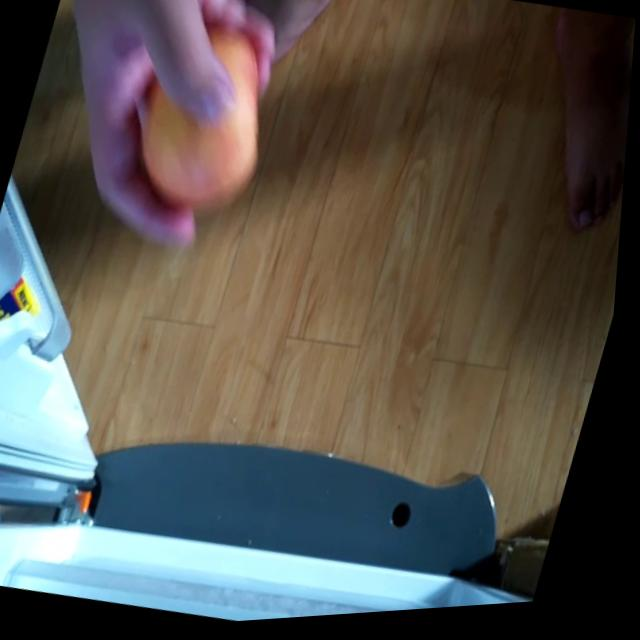apple: (115, 13, 293, 223)
